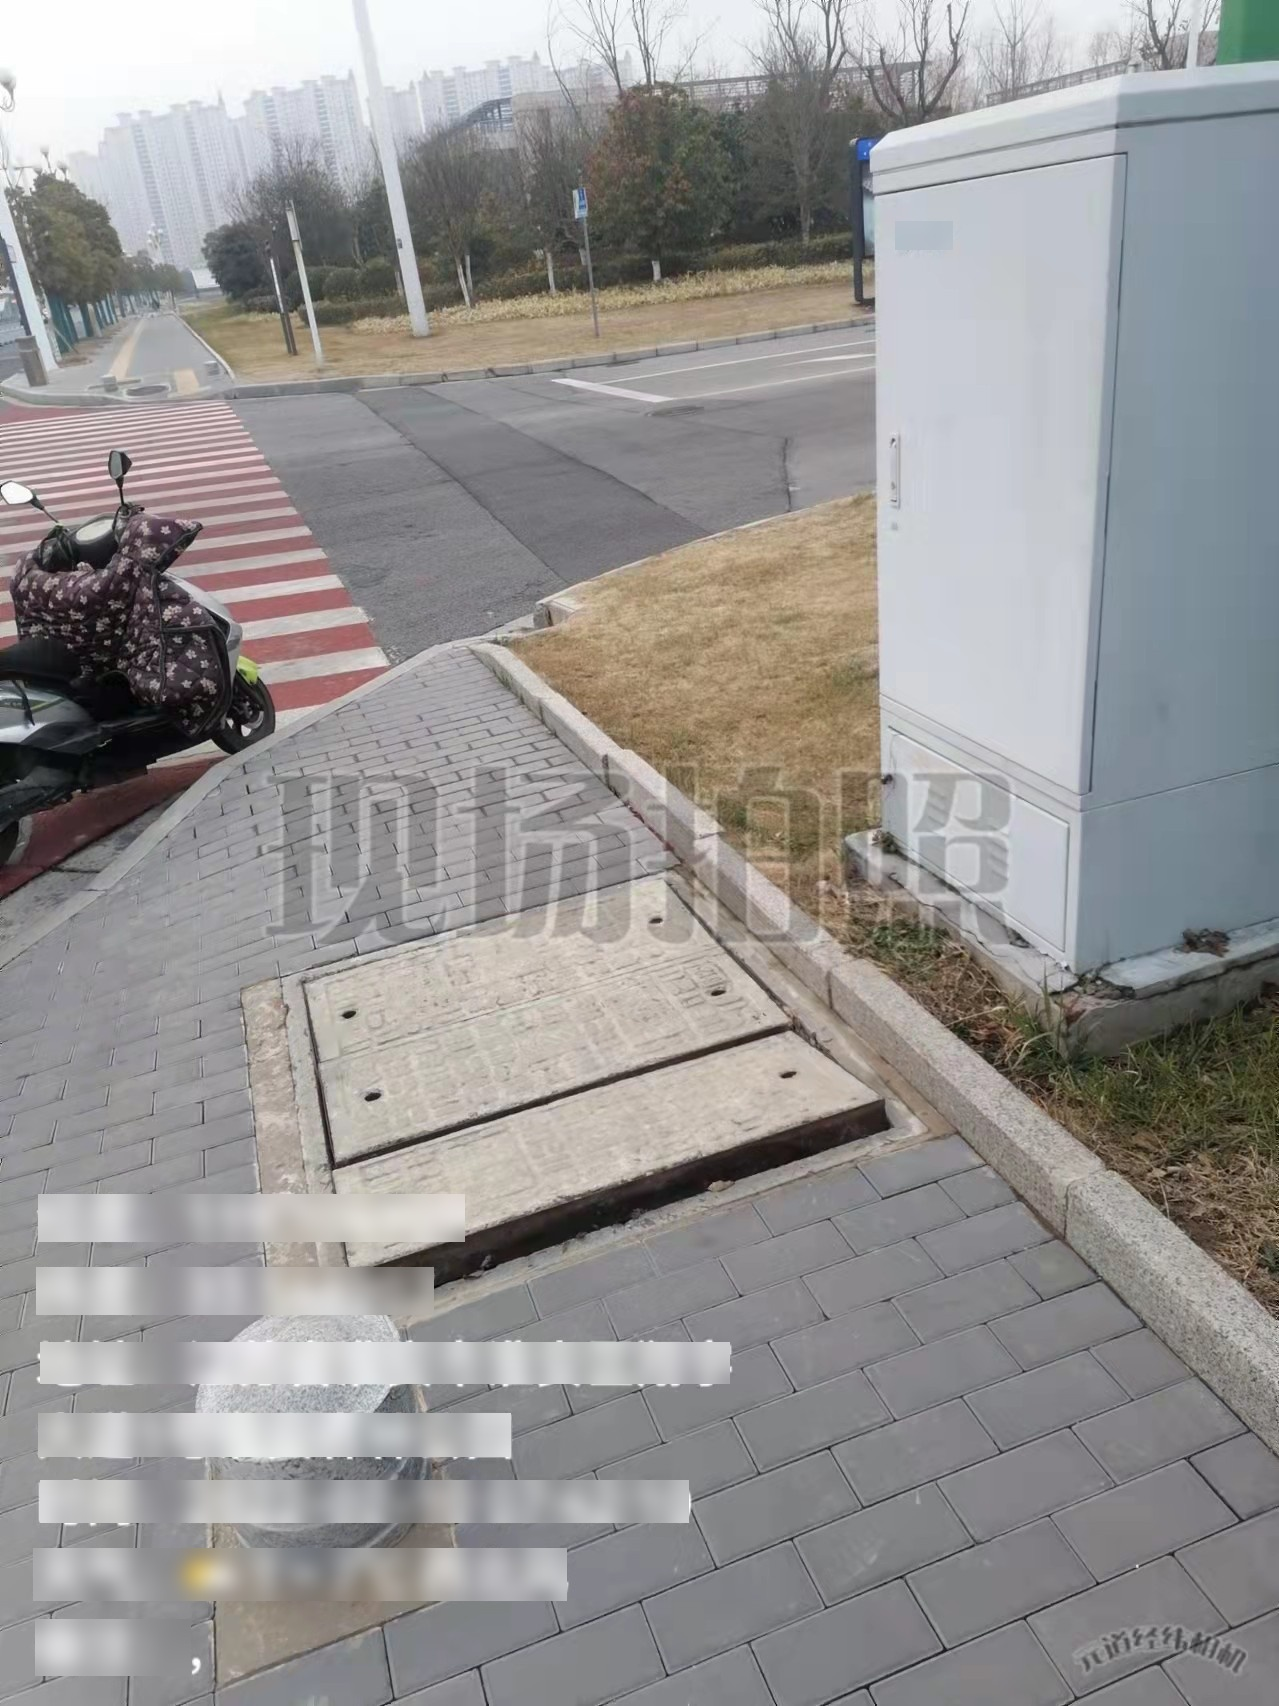uncovered: (282, 877, 906, 1300)
